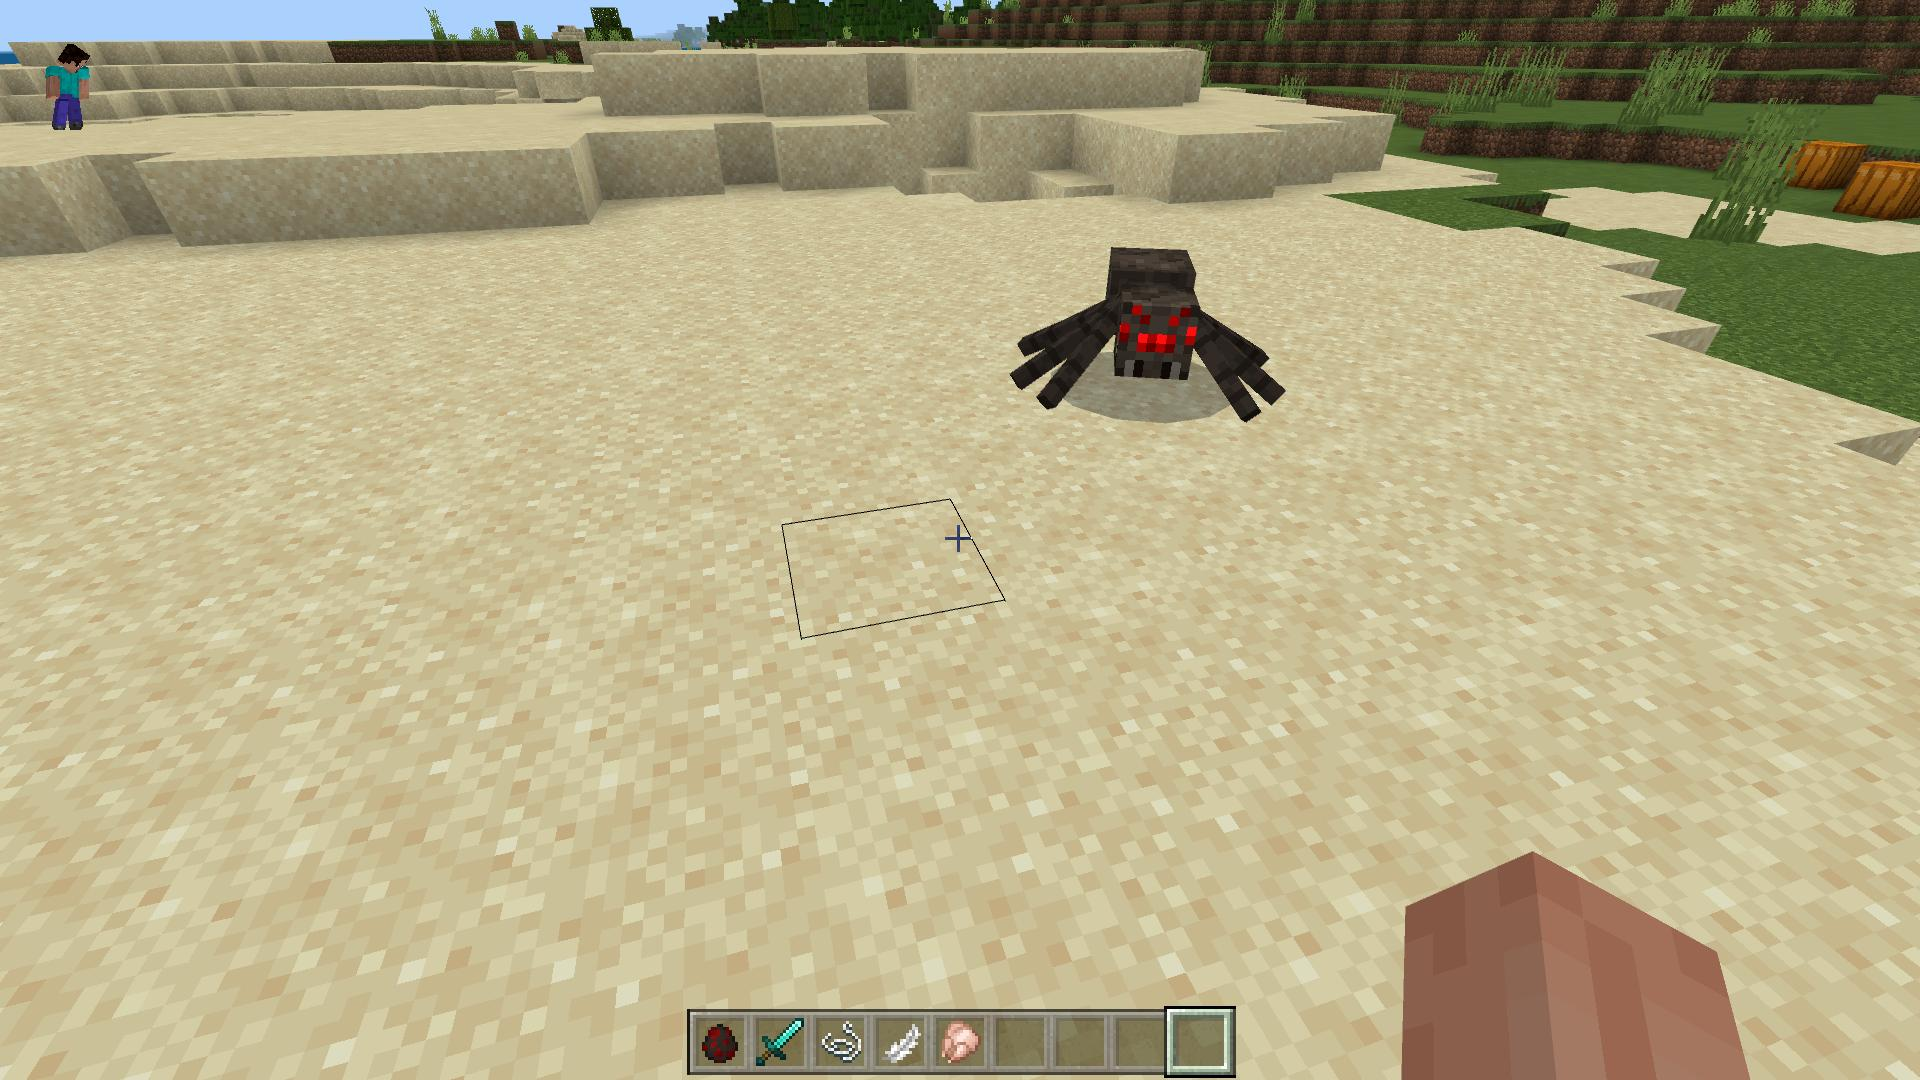spider: (1010, 247, 1288, 430)
